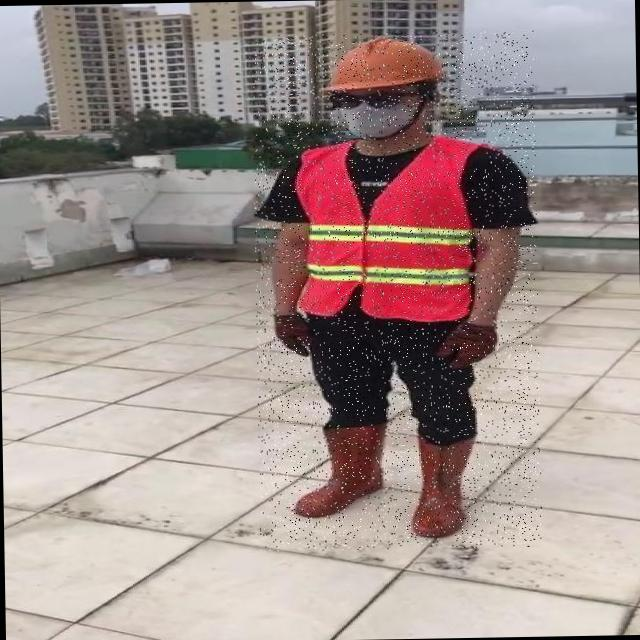hard_hat: (320, 34, 440, 90)
safety_vest: (292, 138, 478, 324)
vehicle: (251, 30, 542, 551)
work_boots: (293, 424, 388, 518), (406, 434, 474, 538)
